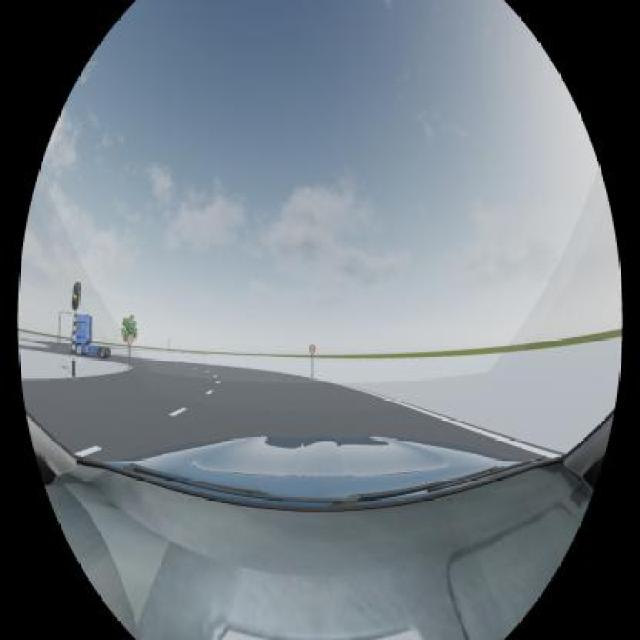forb_speed_over_80: (310, 345, 316, 354)
